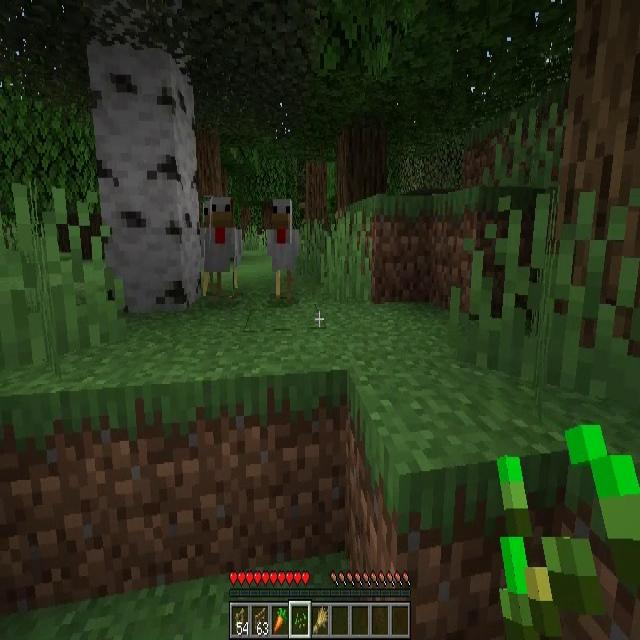duck: (201, 197, 234, 296), (269, 202, 301, 296), (223, 195, 242, 291)
